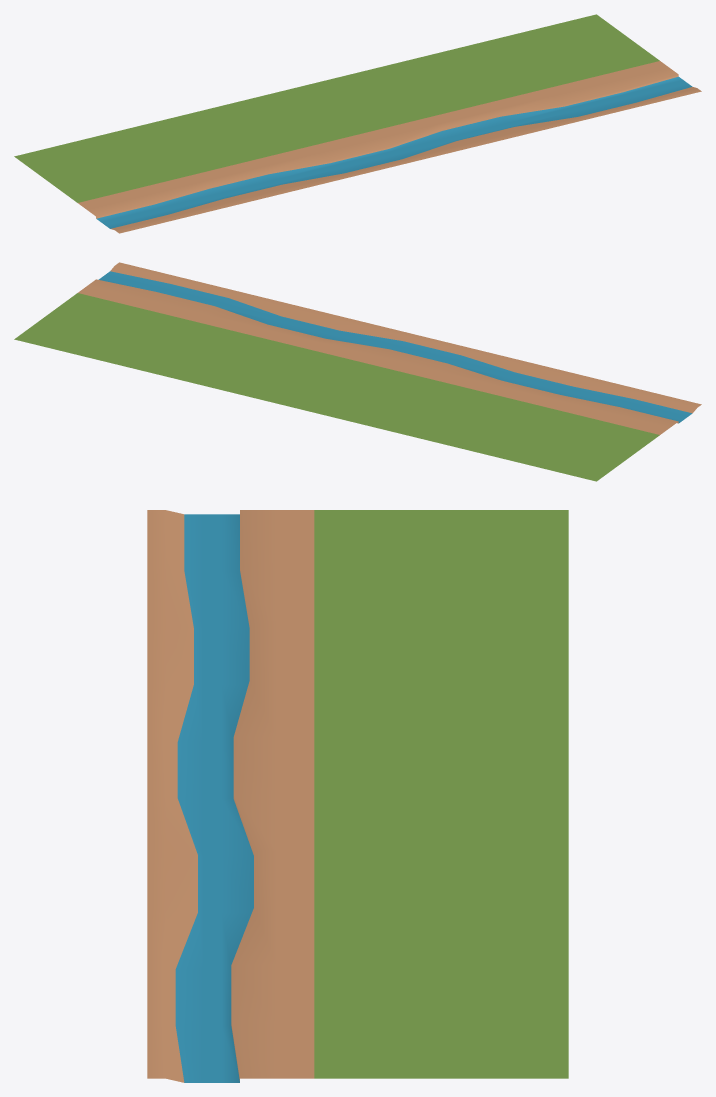
File: map.fbx
The picture shows the model from 3 angles, top to bottom: view 1: azimuth 30°, elevation 25°; view 2: azimuth 150°, elevation 25°; view 3: azimuth 270°, elevation 25°; orthographic projection. The views are drawn at different scales.
Visible parts, largest first — view 1: pPlane1; view 2: pPlane1; view 3: pPlane1.
Boxes of the visible parts, bbox=[...] form: pPlane1: bbox=[14, 14, 701, 233]; pPlane1: bbox=[14, 262, 701, 481]; pPlane1: bbox=[147, 510, 568, 1082].
Bounding box in the file's own units: 1047 × 3.63 × 328.
